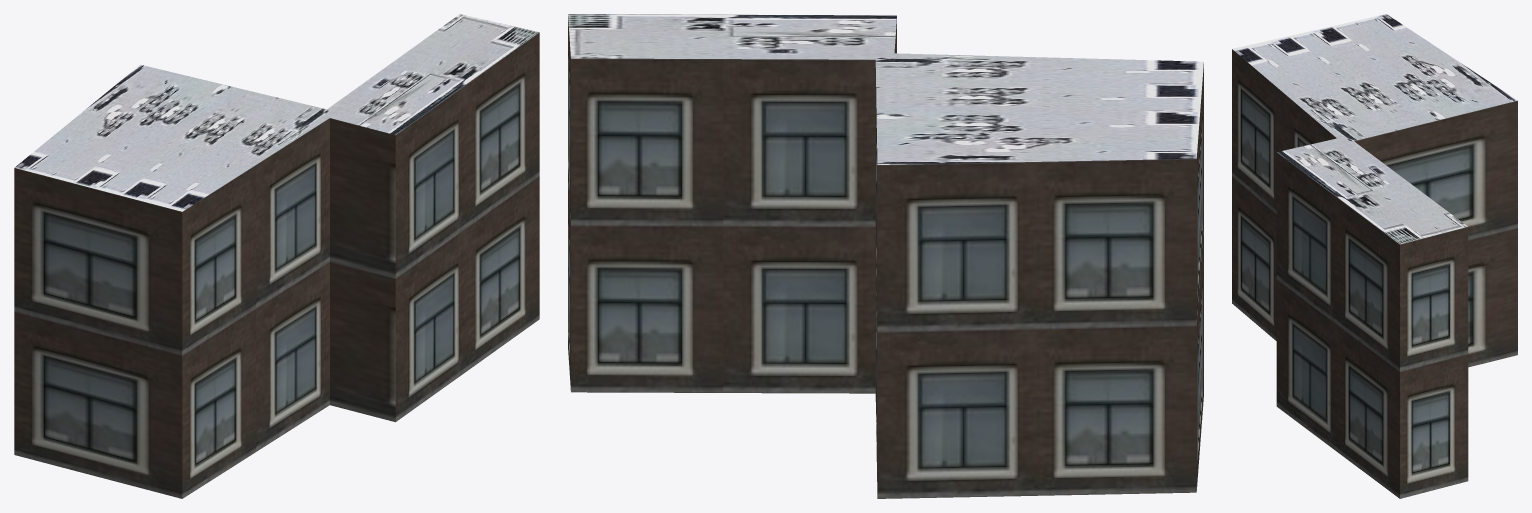
File: ResTex__65.fbx
3 views of the same model, side by side, from view 1: azimuth 30°, elevation 25°; view 2: azimuth 150°, elevation 25°; view 3: azimuth 270°, elevation 25° (orthographic). The views are drawn at different scales.
Visible parts, largest first — view 1: CityEngineMaterial_16_m, CityEngineMaterial_15_m; view 2: CityEngineMaterial_16_m, CityEngineMaterial_15_m; view 3: CityEngineMaterial_16_m, CityEngineMaterial_15_m.
Boxes of the visible parts, bbox=[...] form: CityEngineMaterial_16_m: bbox=[14, 32, 539, 498]; CityEngineMaterial_15_m: bbox=[14, 14, 539, 211]; CityEngineMaterial_16_m: bbox=[568, 16, 1203, 498]; CityEngineMaterial_15_m: bbox=[568, 14, 1203, 164]; CityEngineMaterial_16_m: bbox=[1232, 49, 1517, 498]; CityEngineMaterial_15_m: bbox=[1232, 14, 1517, 244].
Bounding box in the file's own units: 11.66 × 6 × 6.11.
2 materials, 2 textured.
